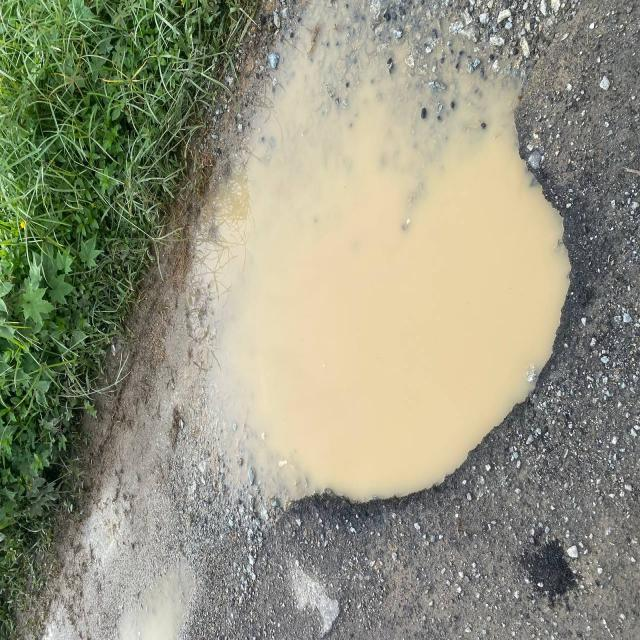pothole: (278, 76, 640, 576)
